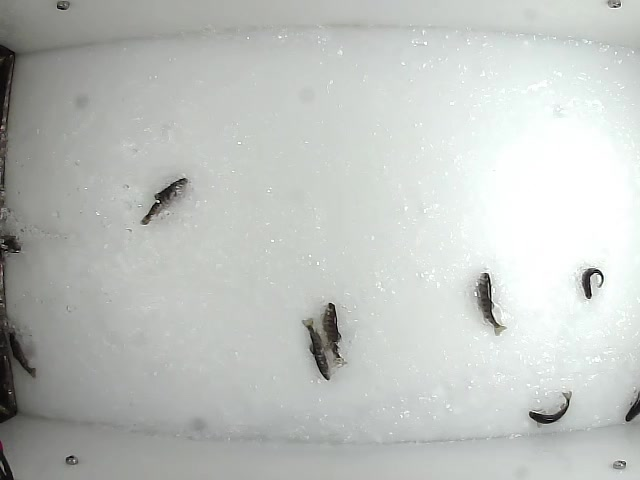fish: (139, 174, 189, 227), (472, 271, 508, 338), (299, 316, 331, 383), (5, 323, 40, 383), (525, 387, 575, 425), (321, 301, 346, 360), (578, 266, 606, 301)
